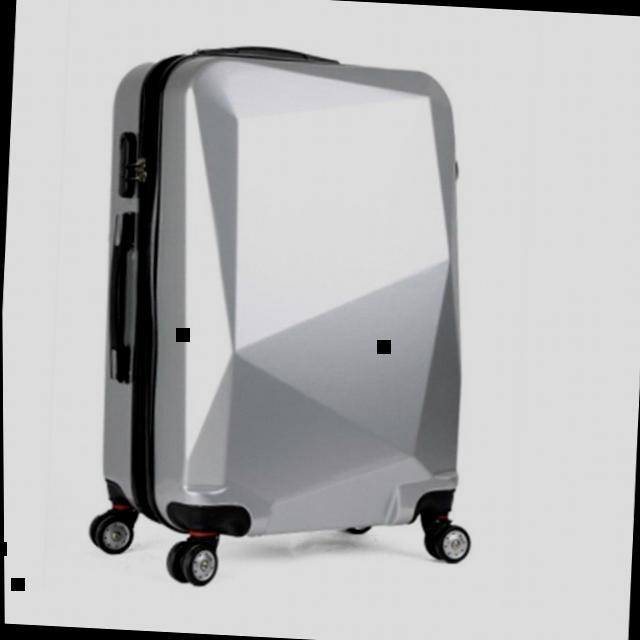luggage: (85, 31, 489, 554)
